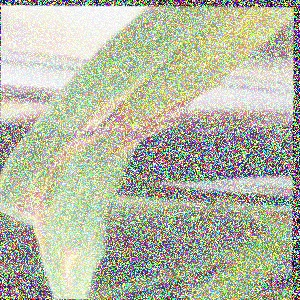Brown_Spot: (110, 84, 209, 150), (53, 86, 132, 161), (0, 168, 62, 239), (43, 237, 83, 291)
